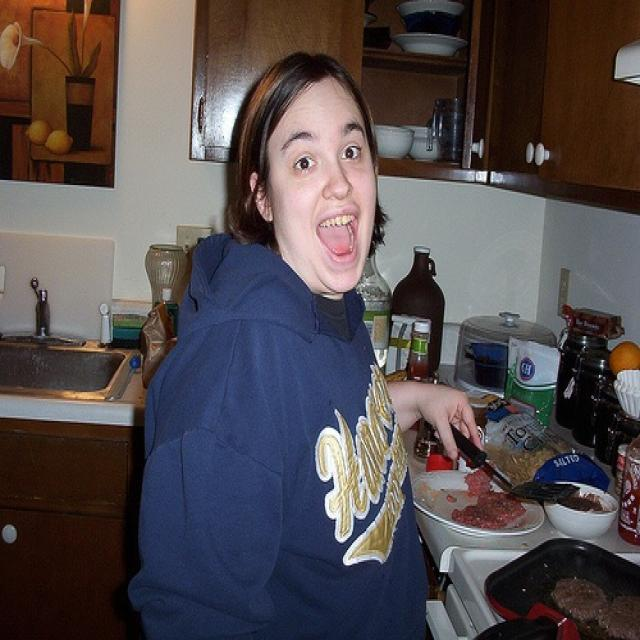bottle: (393, 247, 445, 375), (360, 256, 390, 368), (405, 324, 433, 431)
person: (128, 54, 485, 639)
